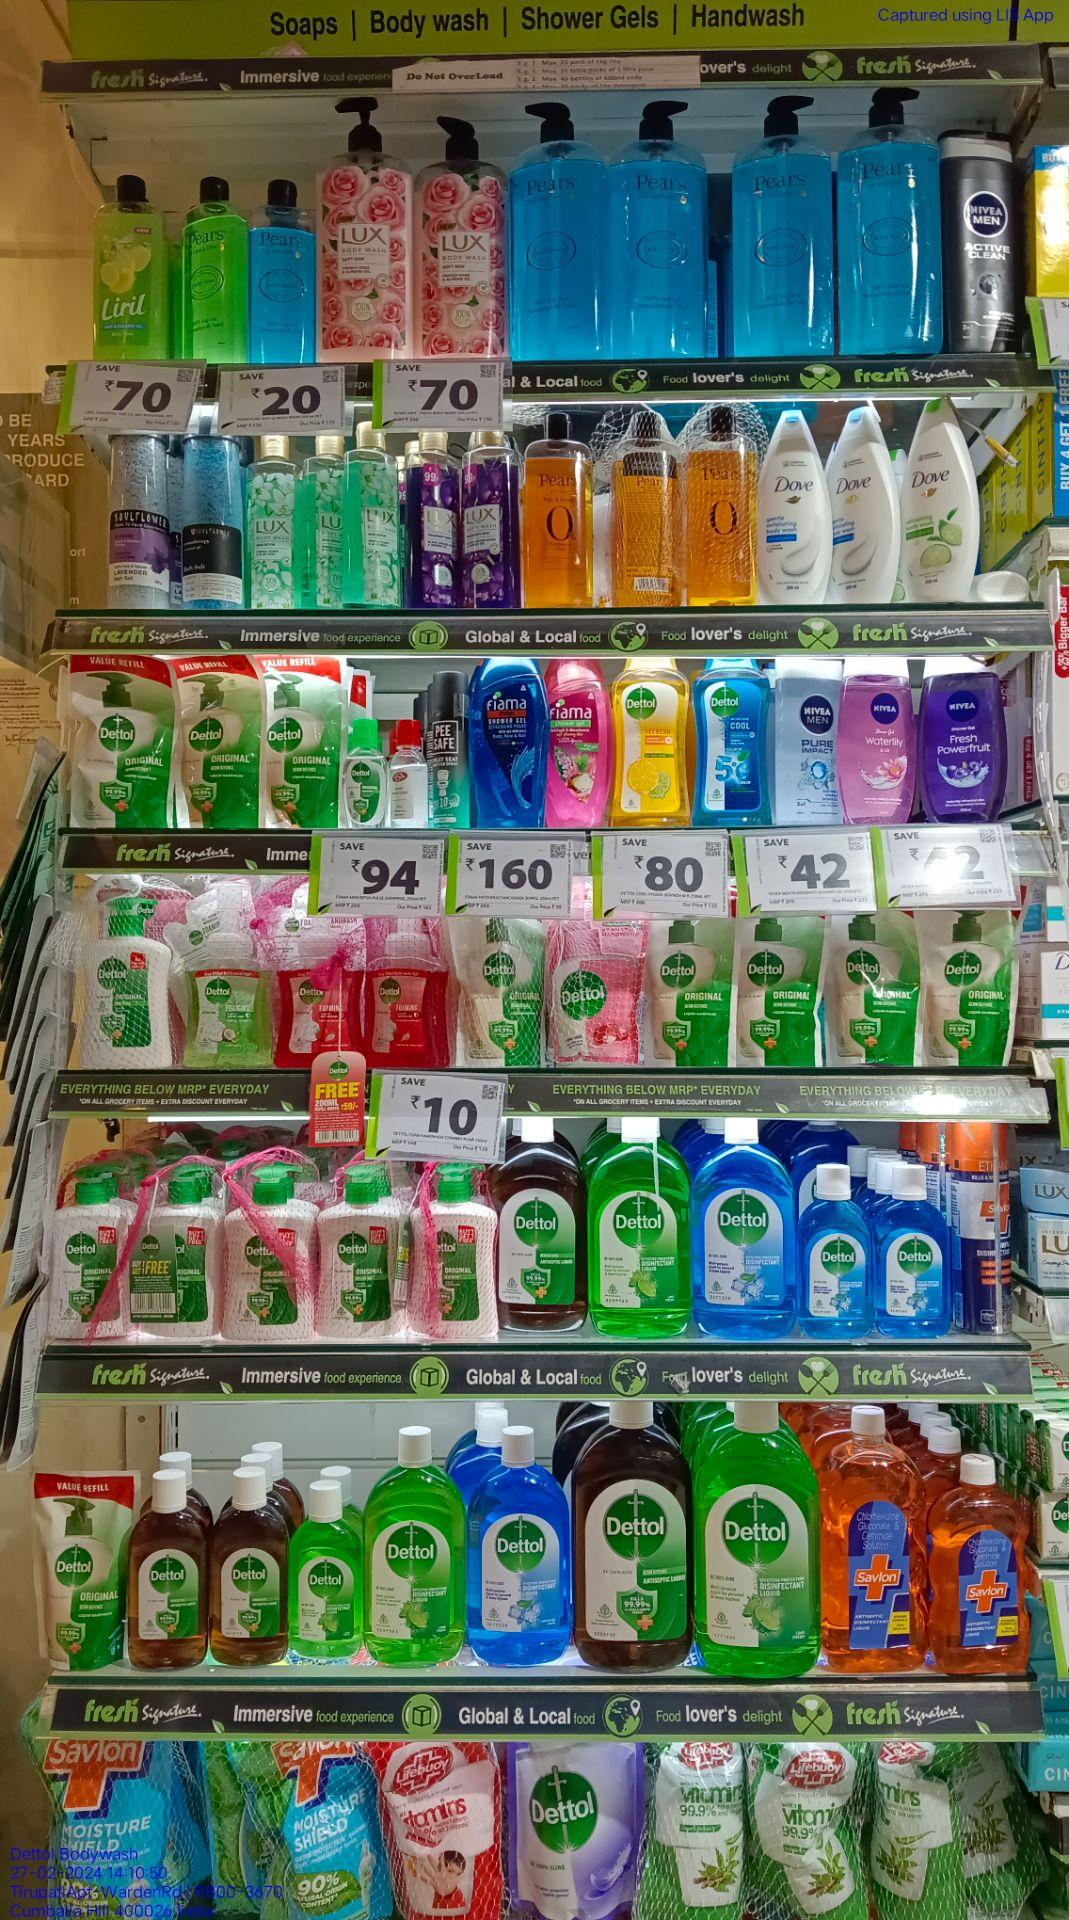Dettol_Bodywash_Cool: (696, 650, 769, 828)
Dettol_Bodywash_Refresh: (619, 655, 690, 830)
Dove_Gentle_Exfoliating_Body_Wash_250ML: (756, 407, 828, 607), (833, 407, 898, 611)
Dove_Refreshing_Body_Wash_250ML: (906, 396, 974, 604)
Fiama_Shower_Gel_Patchouli_and_Macadamia_250ML: (546, 658, 610, 832)
Liril_Lime_and_Tea_Tree_Oil_Body_Wash_250ML: (96, 175, 162, 359)
Lux_Black_Orchid_Scent_and_Juniper_Oil_Body_Wash_245ML: (459, 424, 515, 611), (413, 425, 457, 613)
Lux_Body_Wash_Skin_Detox_Freesia_Scent_and_Alove_Vera_245ML: (353, 417, 404, 612), (244, 430, 296, 611), (305, 432, 349, 612)
Nivea_Shower_Gel_Fresh_Powerfruit_250ML: (926, 646, 999, 820)
Nivea_Shower_Gel_Waterlily_and_Oil_250ML: (841, 651, 916, 826)
Pears_Pure_Glycerin_and_Lemon_Flower_Extracts_Body_Wash_250ML: (182, 176, 244, 362)
Pears_Pure_Glycerin_and_Mint_Extracts_Body_Wash_250ML: (248, 174, 312, 368)
